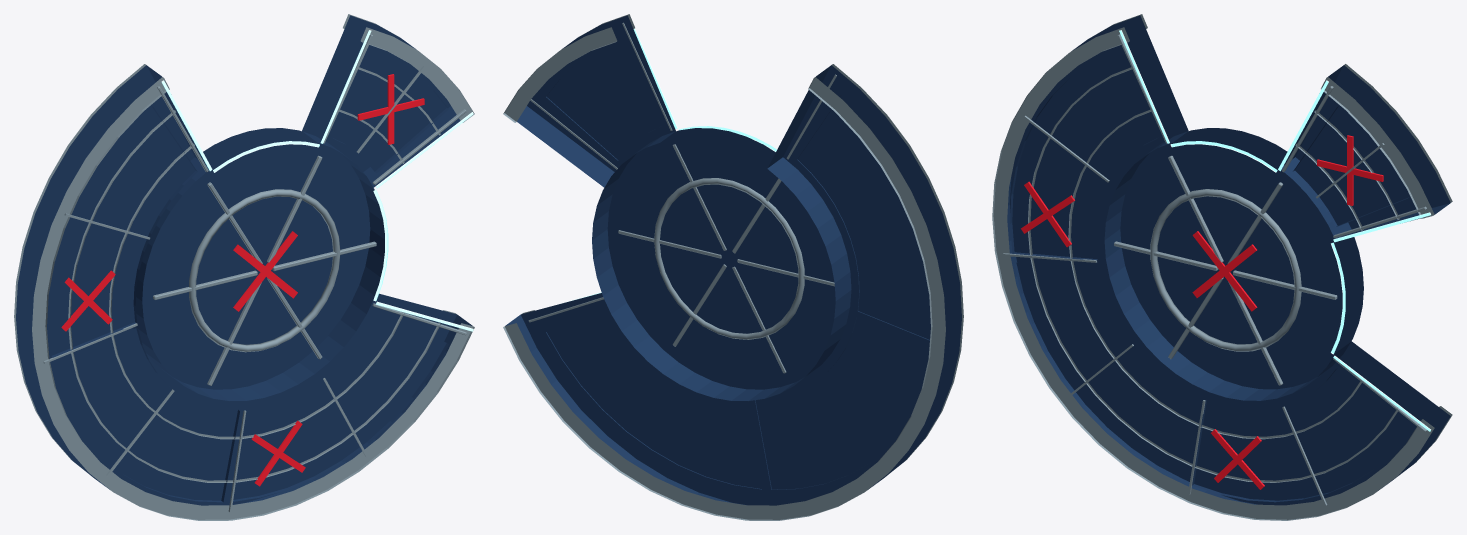
The model's file is foundry-panel-fun5-medium.glb.
The picture shows the model from 3 angles, left to right: view 1: azimuth 30°, elevation 25°; view 2: azimuth 150°, elevation 25°; view 3: azimuth 330°, elevation 25°; orthographic projection.
Visible parts, largest first — view 1: RENDER_PANEL_SHELL, RENDER_PANEL_FRAME, RENDER_PANEL_HAZARD, RENDER_PANEL_SIGNAL; view 2: RENDER_PANEL_SHELL, RENDER_PANEL_FRAME, RENDER_PANEL_SIGNAL; view 3: RENDER_PANEL_SHELL, RENDER_PANEL_FRAME, RENDER_PANEL_HAZARD, RENDER_PANEL_SIGNAL.
Boxes of the visible parts, box(x1,y1,x2,y2) form: RENDER_PANEL_SHELL: box(16, 15, 472, 505); RENDER_PANEL_FRAME: box(14, 14, 474, 520); RENDER_PANEL_HAZARD: box(61, 74, 424, 486); RENDER_PANEL_SIGNAL: box(161, 30, 473, 331); RENDER_PANEL_SHELL: box(505, 15, 961, 505); RENDER_PANEL_FRAME: box(503, 14, 963, 520); RENDER_PANEL_SIGNAL: box(566, 28, 776, 302); RENDER_PANEL_SHELL: box(1007, 15, 1450, 505); RENDER_PANEL_FRAME: box(992, 14, 1452, 520); RENDER_PANEL_HAZARD: box(1021, 135, 1383, 489); RENDER_PANEL_SIGNAL: box(1119, 30, 1430, 431).
Size of what is drawn, in the model's own units: 38.92 by 38.92 by 3.09.
